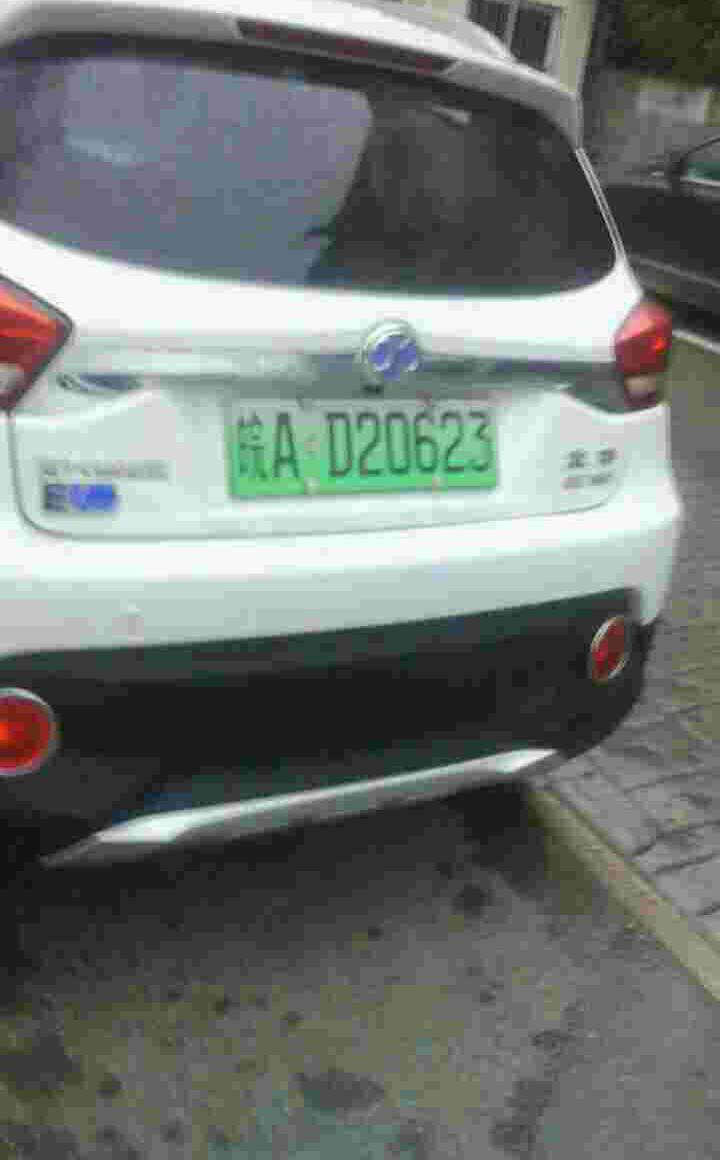car_id: (224, 397, 500, 492)
